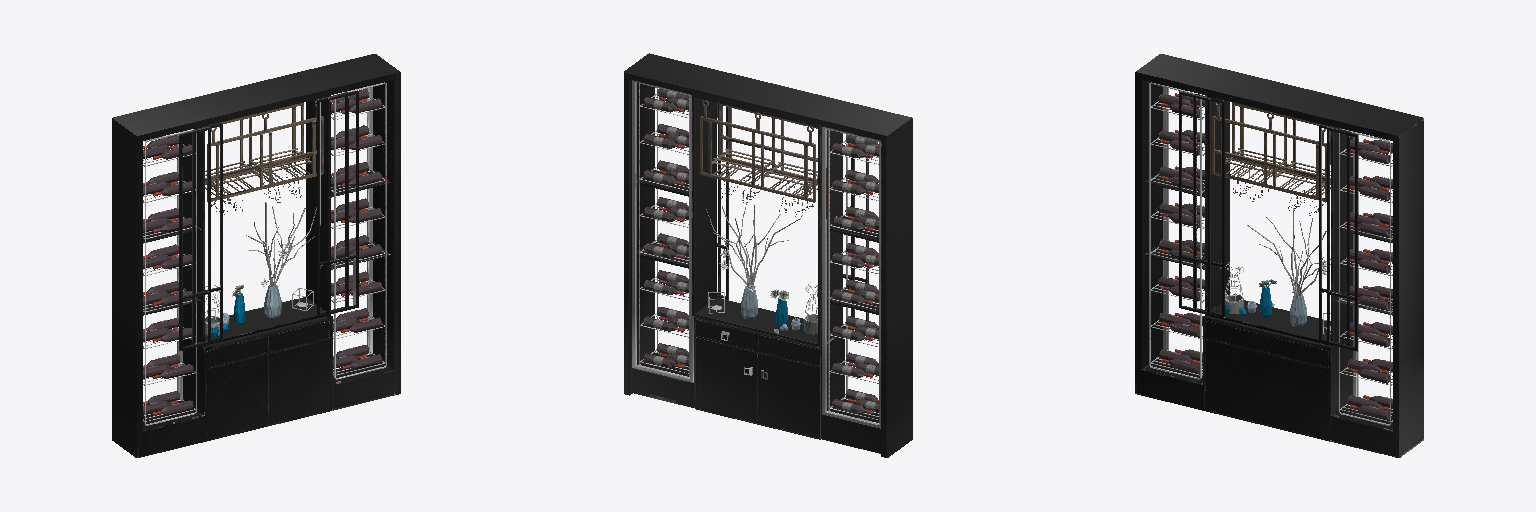
3 renders of one model, left to right at view 1: azimuth 30°, elevation 25°; view 2: azimuth 150°, elevation 25°; view 3: azimuth 330°, elevation 25°, orthographic.
Visible parts, largest first — view 1: solid_001_wire; view 2: solid_001_wire; view 3: solid_001_wire.
Boxes of the visible parts, <box> form: solid_001_wire: <box>112,54,400,457</box>; solid_001_wire: <box>624,53,912,457</box>; solid_001_wire: <box>1135,54,1423,457</box>.
Size of the model in its own units: 2.14 by 2.5 by 0.3569.
Materials: 1 (1 with a texture image).